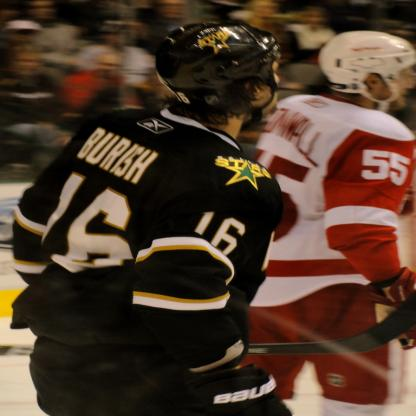Helmet: (151, 21, 298, 118), (308, 34, 416, 112)
